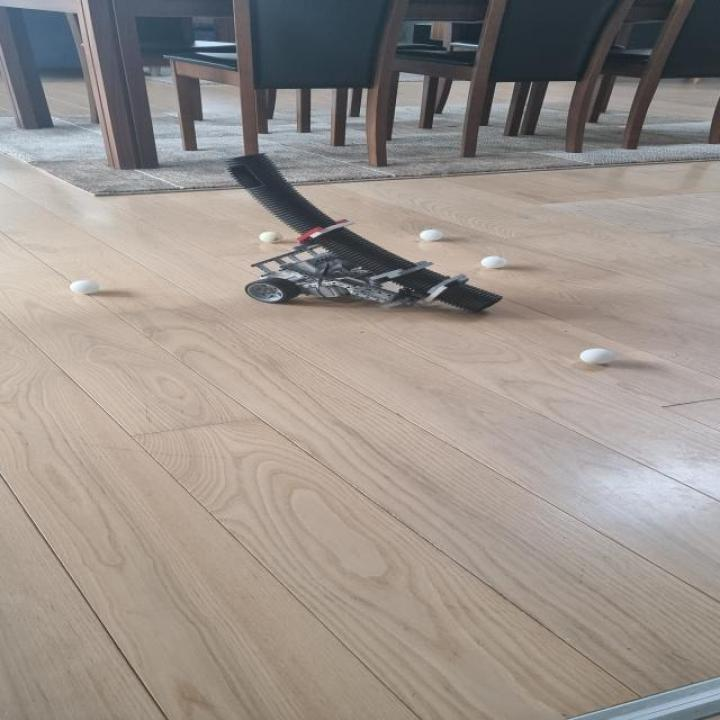robot: (220, 153, 504, 314)
white: (578, 348, 616, 364), (69, 280, 101, 294), (481, 256, 508, 268), (259, 232, 283, 243), (420, 230, 443, 240)
